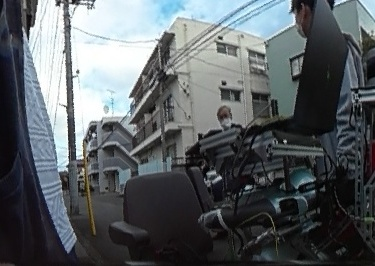person: (284, 2, 365, 162), (212, 101, 244, 133)
